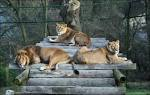lion: (15, 43, 69, 79), (77, 38, 121, 67), (54, 19, 92, 46)
